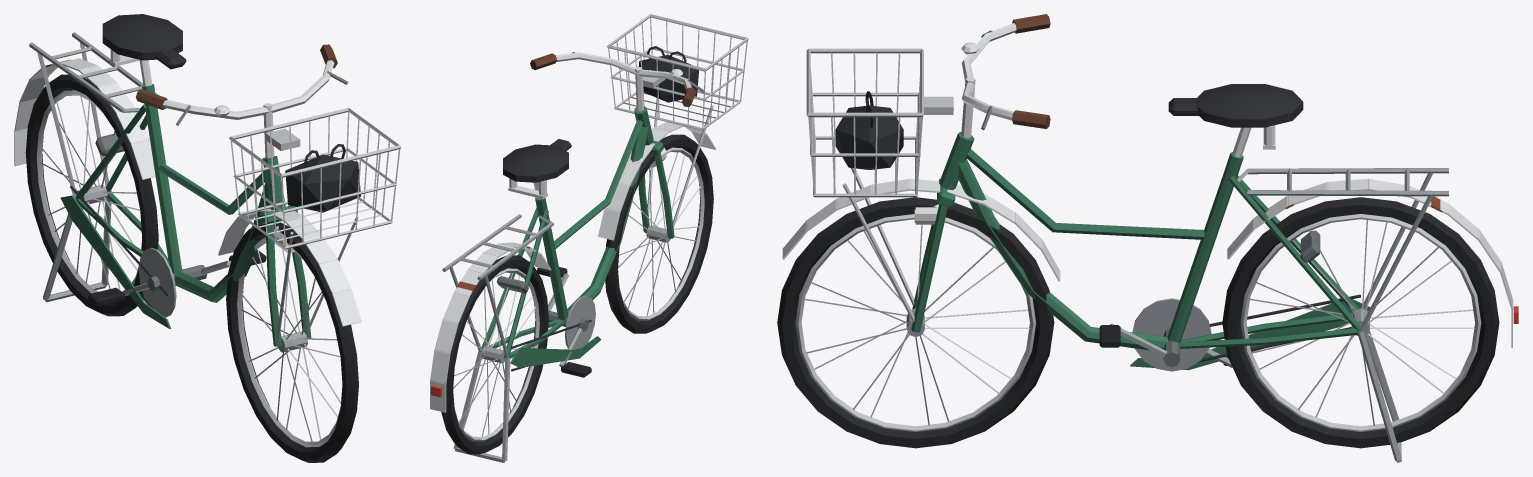
Rendered from SC_Home_Bicycle_Old.gltf.
3 views of the same model, side by side, from view 1: azimuth 30°, elevation 25°; view 2: azimuth 150°, elevation 25°; view 3: azimuth 270°, elevation 25° (orthographic). The views are drawn at different scales.
Visible parts, largest first — view 1: SC_Home_Bicycle_Old; view 2: SC_Home_Bicycle_Old; view 3: SC_Home_Bicycle_Old.
Boxes of the visible parts, x1,y1,x2,y2 form: SC_Home_Bicycle_Old: [14, 14, 401, 462]; SC_Home_Bicycle_Old: [430, 14, 748, 462]; SC_Home_Bicycle_Old: [777, 14, 1518, 462].
Size of the model in its own units: 0.6018 by 1 by 1.77.
1 material, 1 textured.
